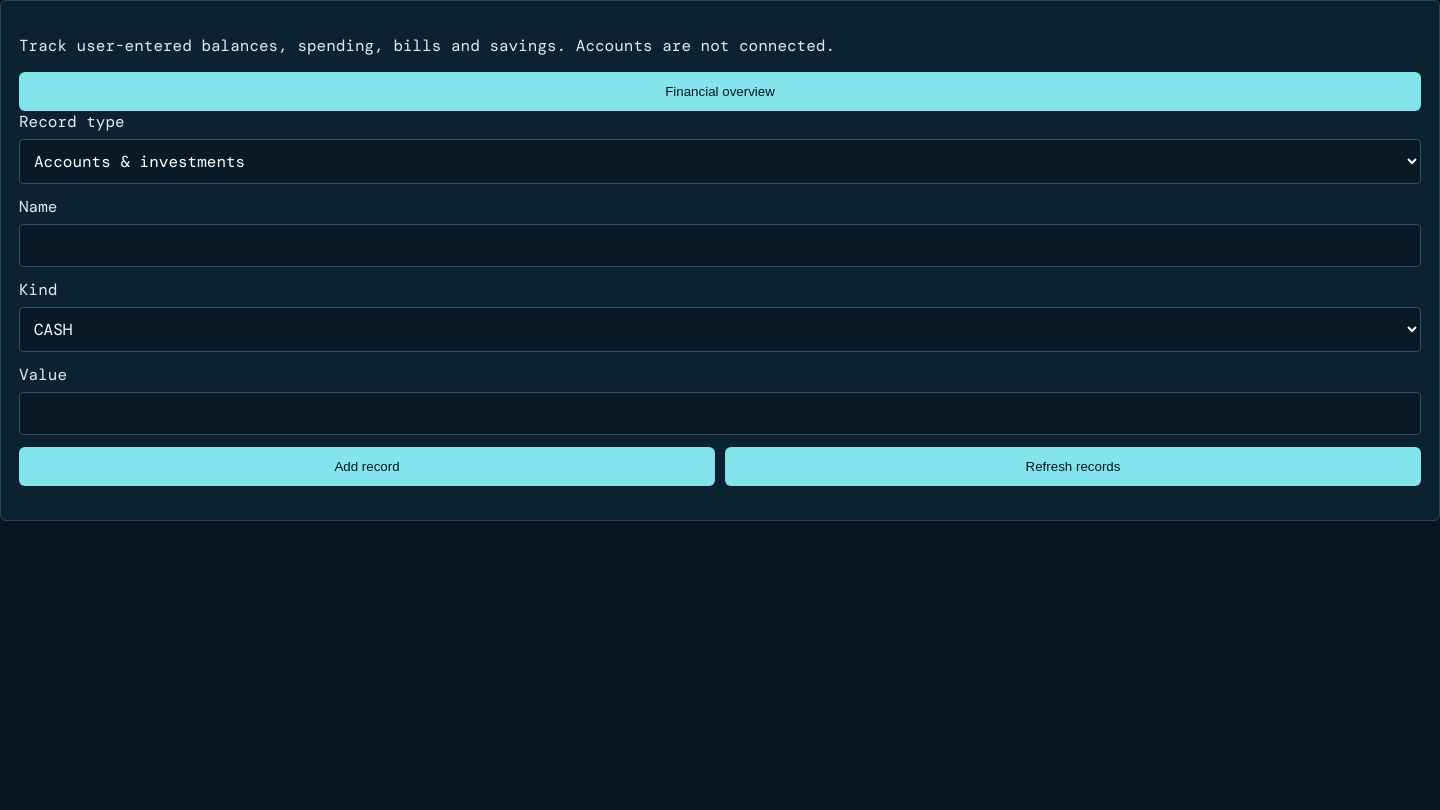
Scenario: failed writes stay visible
Click the button "Add record".
click(367, 466)  # box [19,447,715,486]
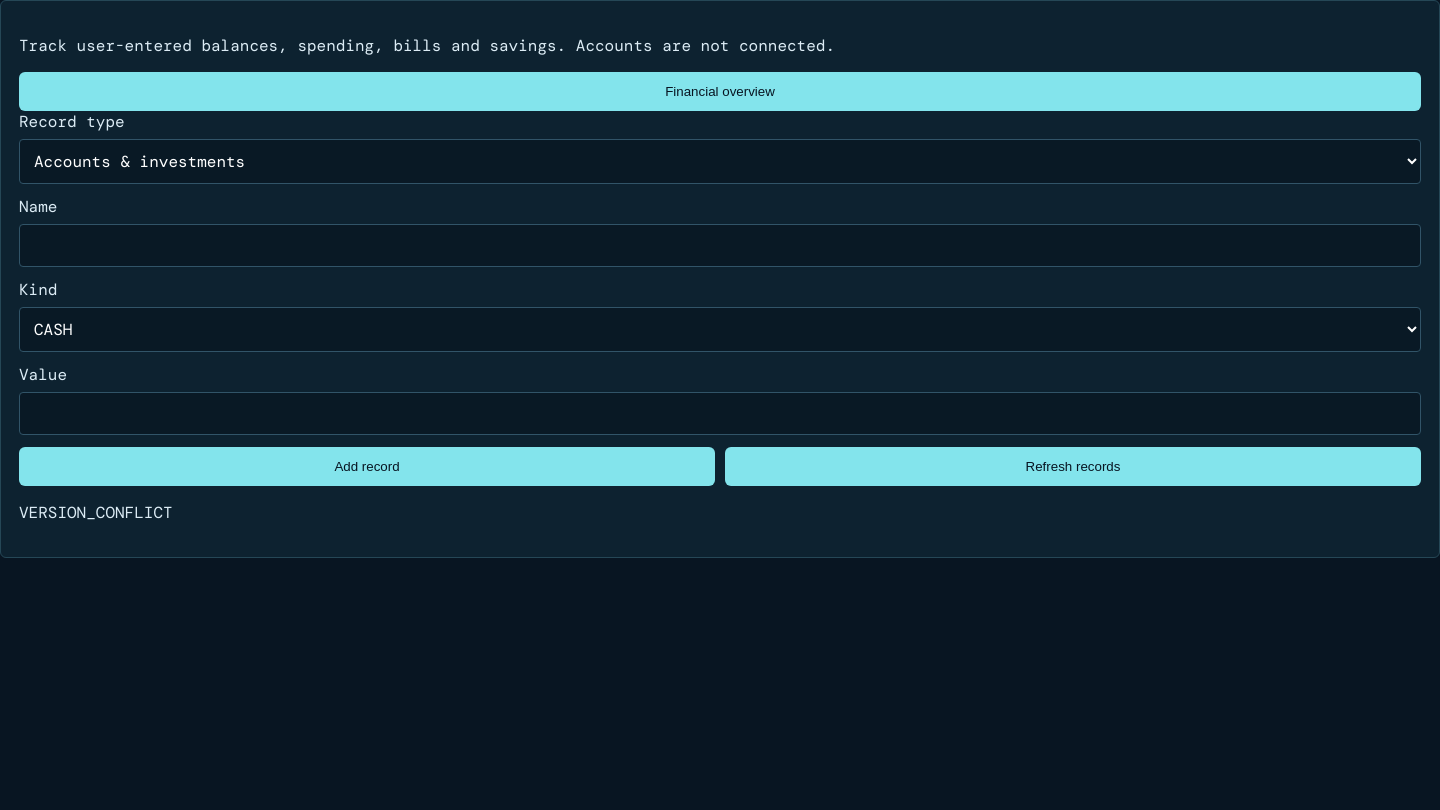
Expected: the message reads "VERSION_CONFLICT", [19,502,173,523]
